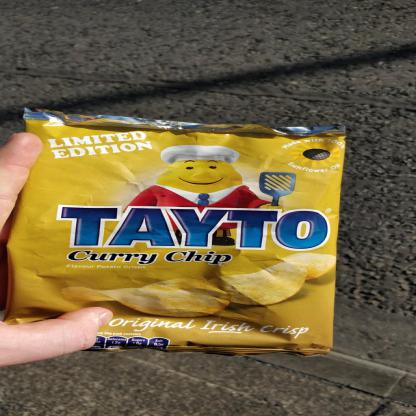potatochip: (0, 97, 360, 360)
